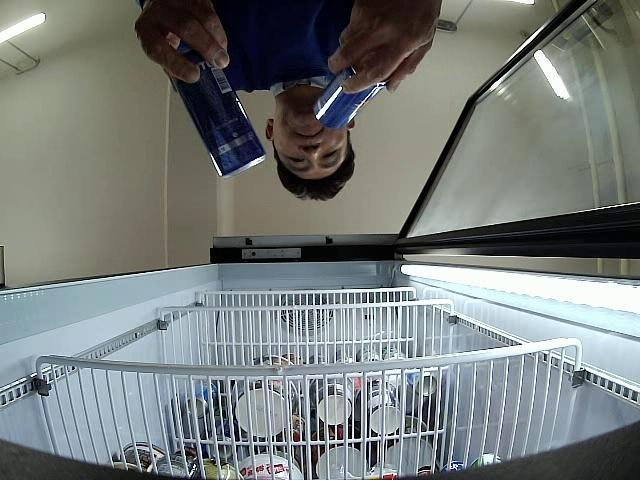16_hot6: (170, 48, 266, 178), (313, 66, 389, 128)
